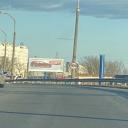speed_limit_100: (67, 60, 80, 70)
